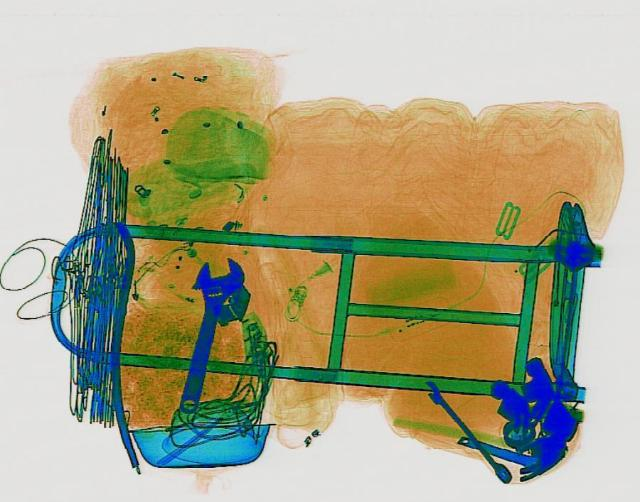Wrench: (161, 253, 249, 414), (418, 376, 516, 482)
